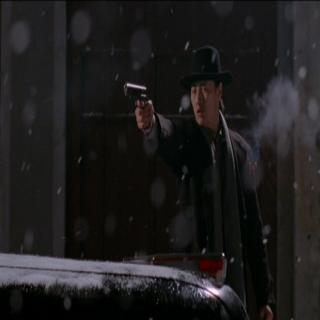gun: (121, 78, 153, 132)
